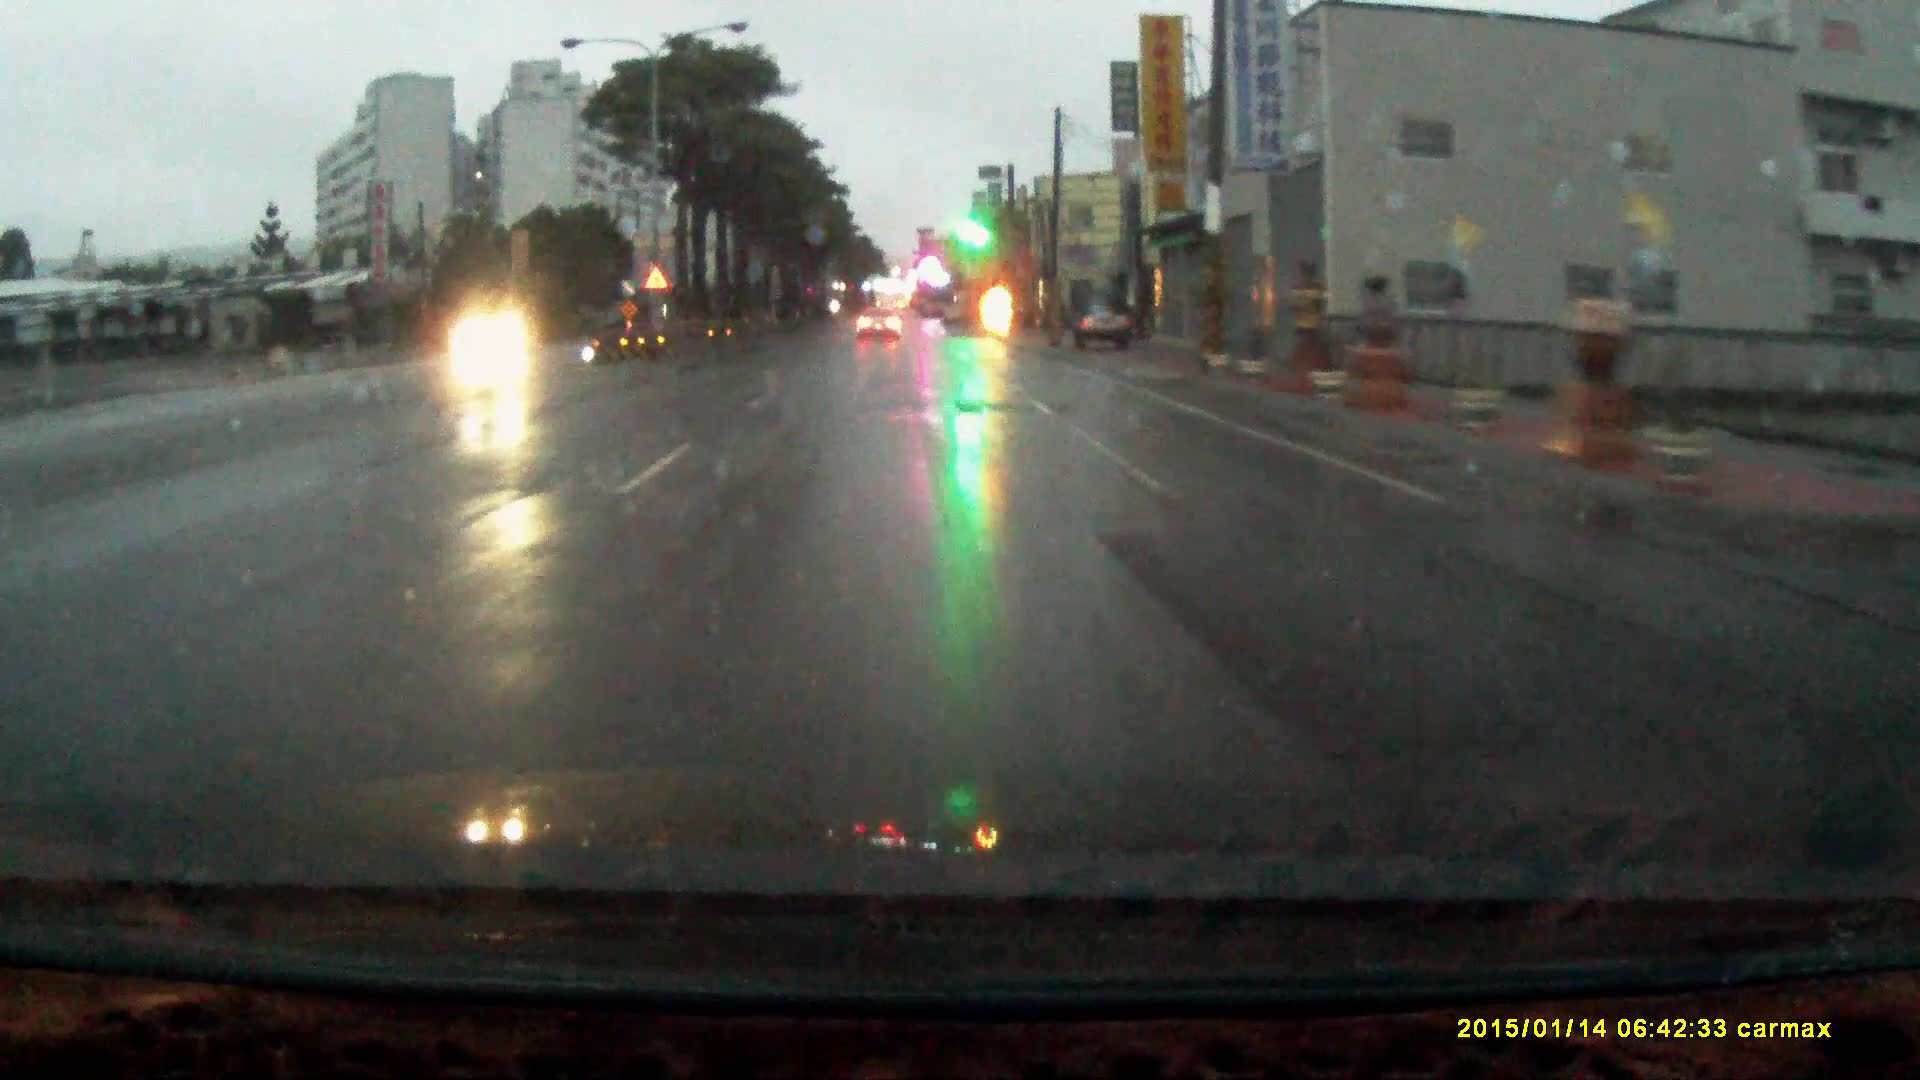vehicle: (1073, 284, 1135, 345), (857, 303, 905, 339)
